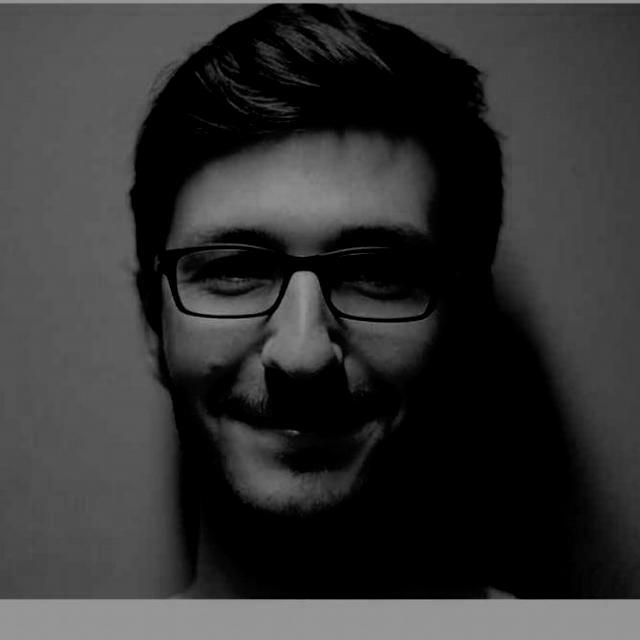real: (164, 136, 440, 528)
